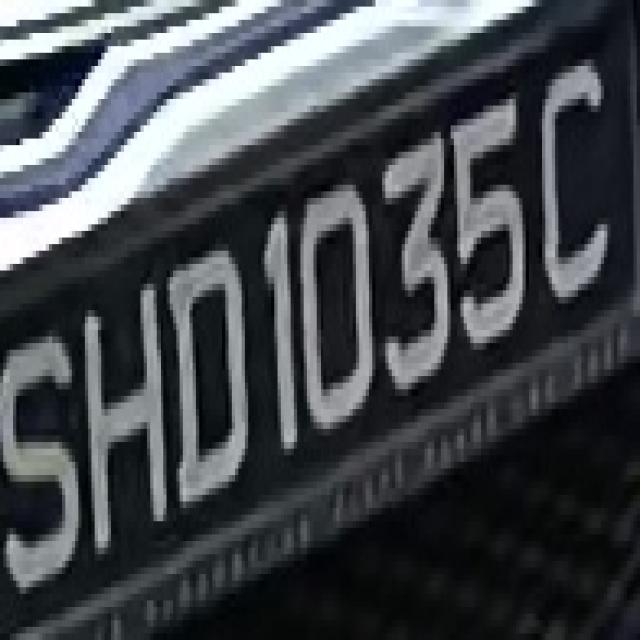0: (297, 178, 376, 442)
1: (255, 192, 310, 468)
3: (359, 125, 454, 429)
5: (444, 92, 532, 363)
C: (532, 79, 614, 330)
D: (164, 258, 252, 522)
H: (78, 270, 166, 580)
S: (10, 317, 85, 620)
